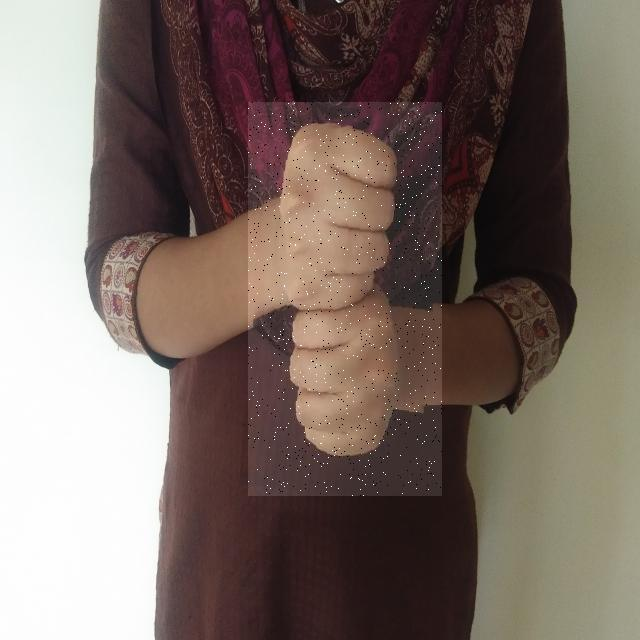G: (248, 102, 442, 496)
